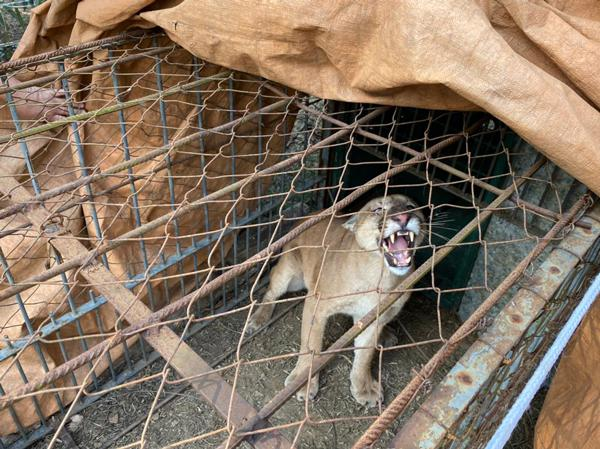OncaParda: (237, 188, 438, 421)
